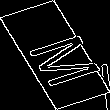M_NE: (11, 24, 99, 86)
